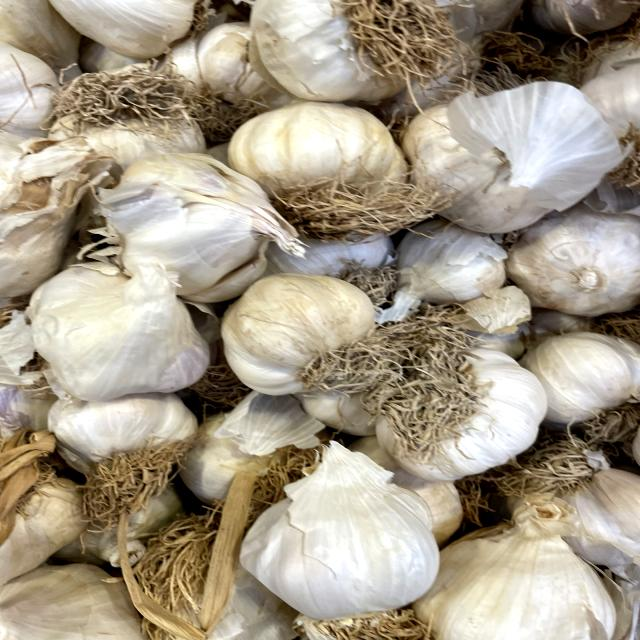garlic: (7, 244, 215, 417), (235, 446, 440, 621), (208, 263, 412, 406)
